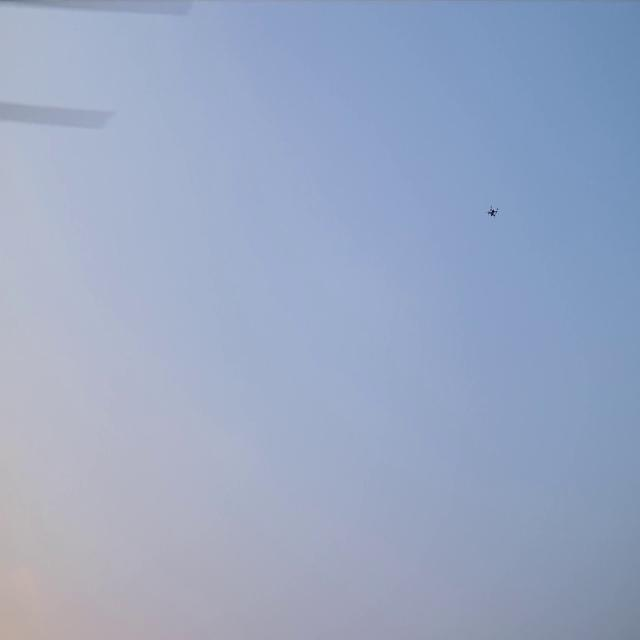UAV: (488, 209, 497, 215)
